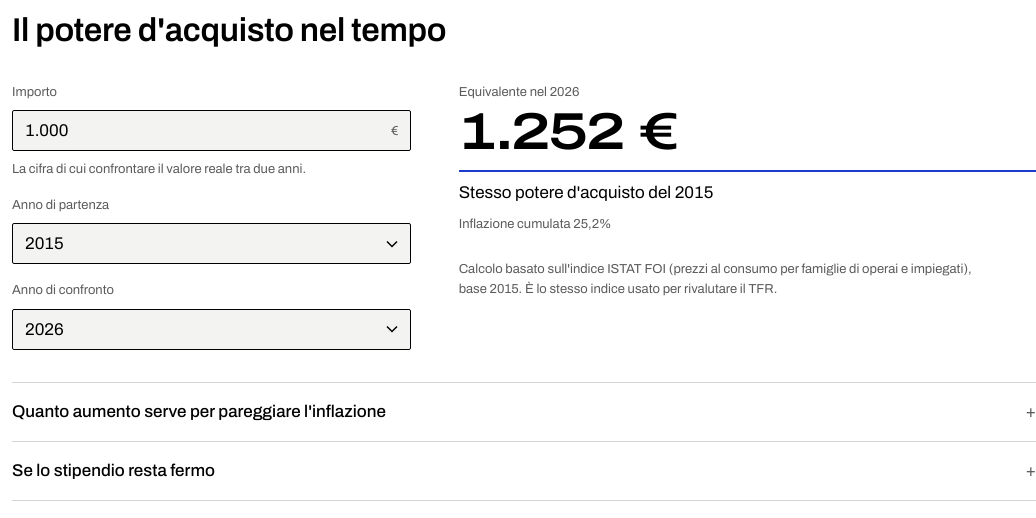
Test: InflationPage › reacts to changing the starting year
Select "2020" in the dropdown labelled "Anno di partenza" at coordinates (211, 244), box [12,223,411,264]
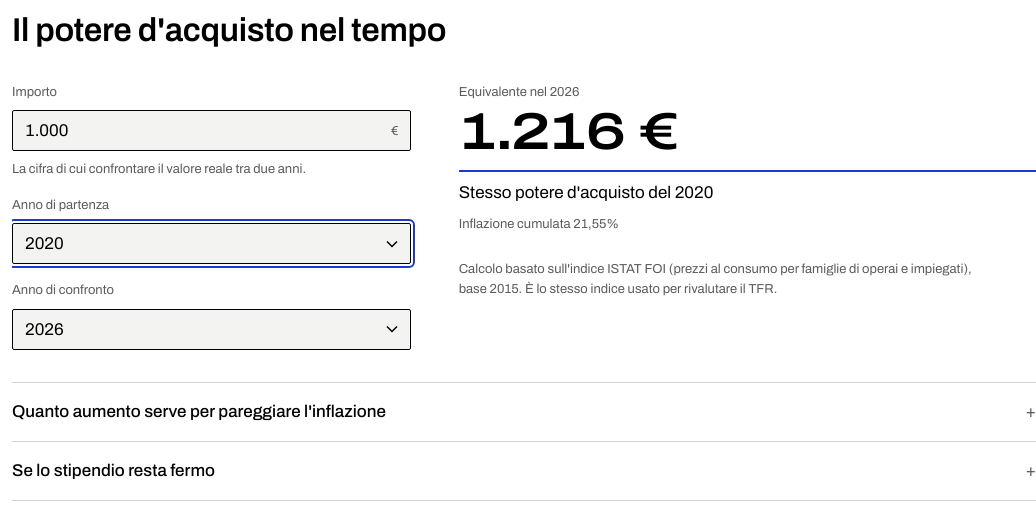
Expected: the text "Stesso potere d'acquisto del 2020" is shown, [459,183,713,202]
